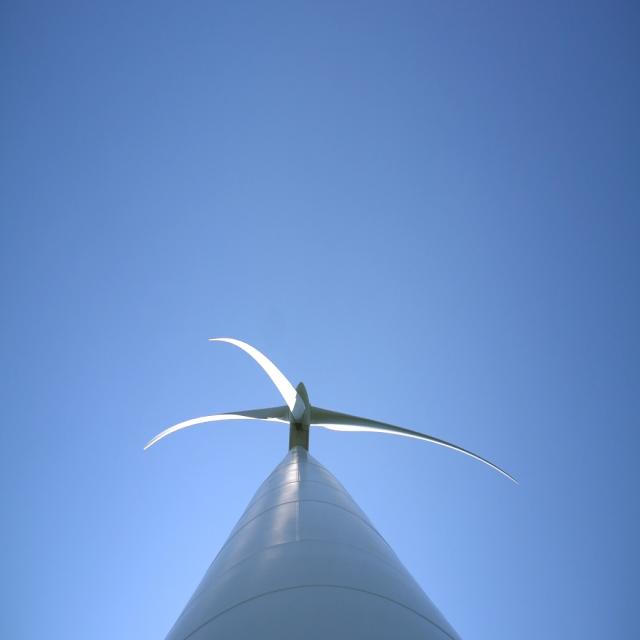blade 1: (138, 399, 284, 467)
blade 2: (206, 312, 288, 388)
blade 3: (334, 398, 518, 473)
